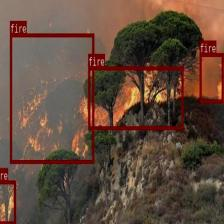fire: (10, 33, 94, 164), (88, 66, 183, 128), (199, 53, 223, 102), (0, 179, 15, 224)
